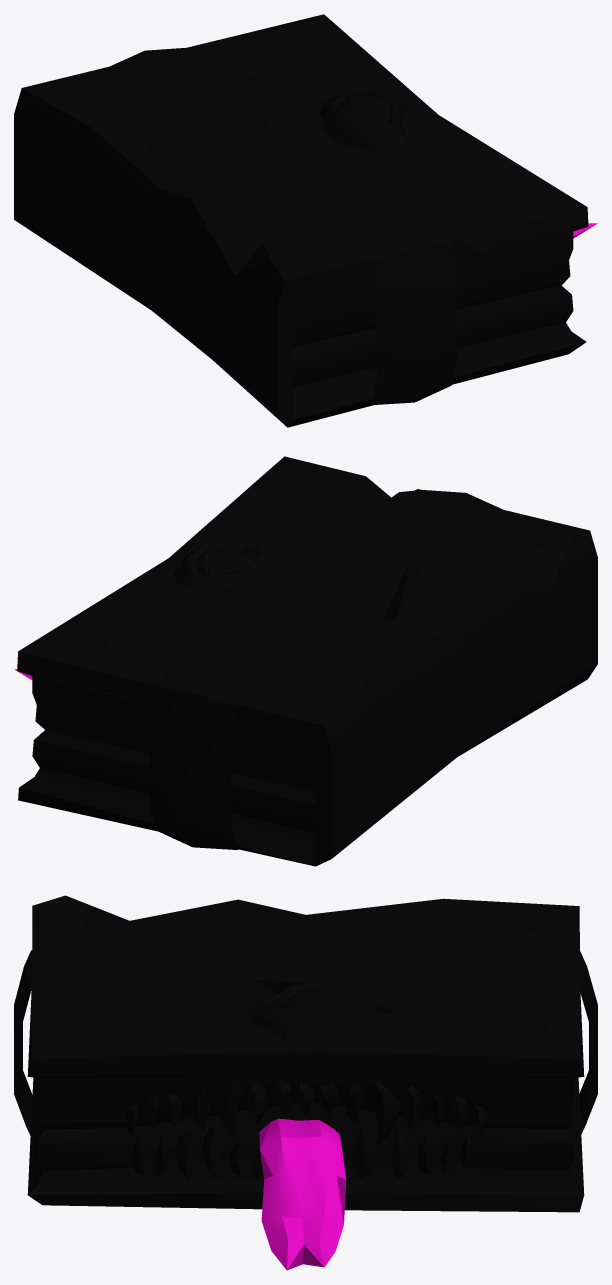
The model's file is SM_Prop_Book_02.fbx.
The picture shows the model from 3 angles, top to bottom: view 1: azimuth 30°, elevation 25°; view 2: azimuth 150°, elevation 25°; view 3: azimuth 270°, elevation 25°; orthographic projection. The views are drawn at different scales.
Parts seen in each view (by area): view 1: SM_Prop_Book_02; view 2: SM_Prop_Book_02; view 3: SM_Prop_Book_02.
Part boxes in pixels (x1,y1,x2,y2): SM_Prop_Book_02: [14, 14, 597, 427]; SM_Prop_Book_02: [14, 456, 597, 866]; SM_Prop_Book_02: [14, 895, 597, 1270].
Bounding box in the file's own units: 60.17 × 23.62 × 66.16.
